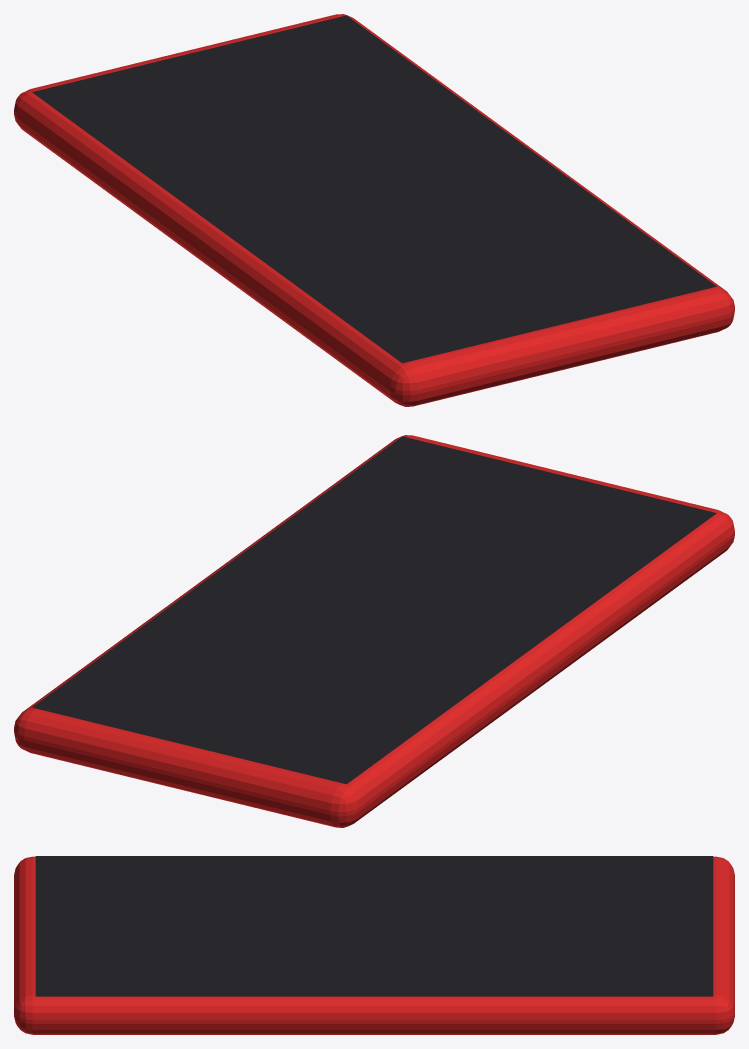
Rendered from Phone_799.glb.
The picture shows the model from 3 angles, top to bottom: view 1: azimuth 30°, elevation 25°; view 2: azimuth 150°, elevation 25°; view 3: azimuth 270°, elevation 25°; orthographic projection. The views are drawn at different scales.
Parts seen in each view (by area): view 1: Phone_Screen, Phone_Body; view 2: Phone_Screen, Phone_Body; view 3: Phone_Screen, Phone_Body.
Part boxes in pixels (bbox=[...]): Phone_Screen: bbox=[32, 15, 716, 363]; Phone_Body: bbox=[14, 14, 734, 406]; Phone_Screen: bbox=[32, 436, 716, 784]; Phone_Body: bbox=[14, 435, 734, 827]; Phone_Screen: bbox=[35, 856, 713, 996]; Phone_Body: bbox=[14, 856, 734, 1034].
Size of the model in its own units: 0.0788 by 0.0092 by 0.1572.
